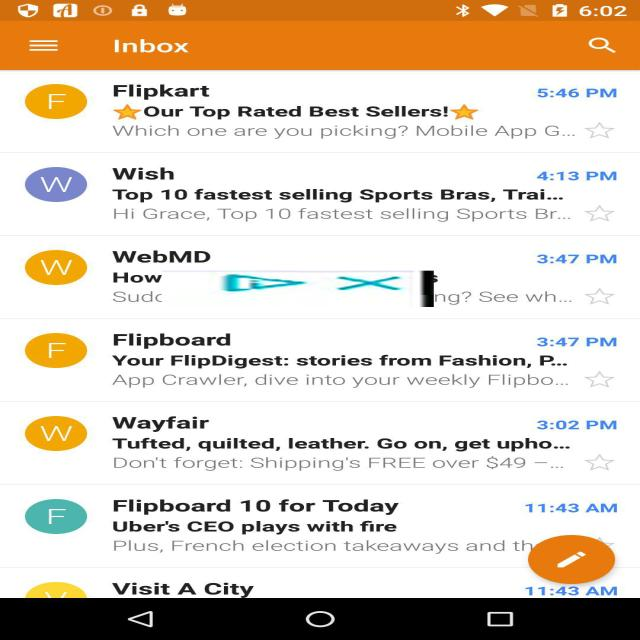sneaking: (162, 271, 434, 307)
